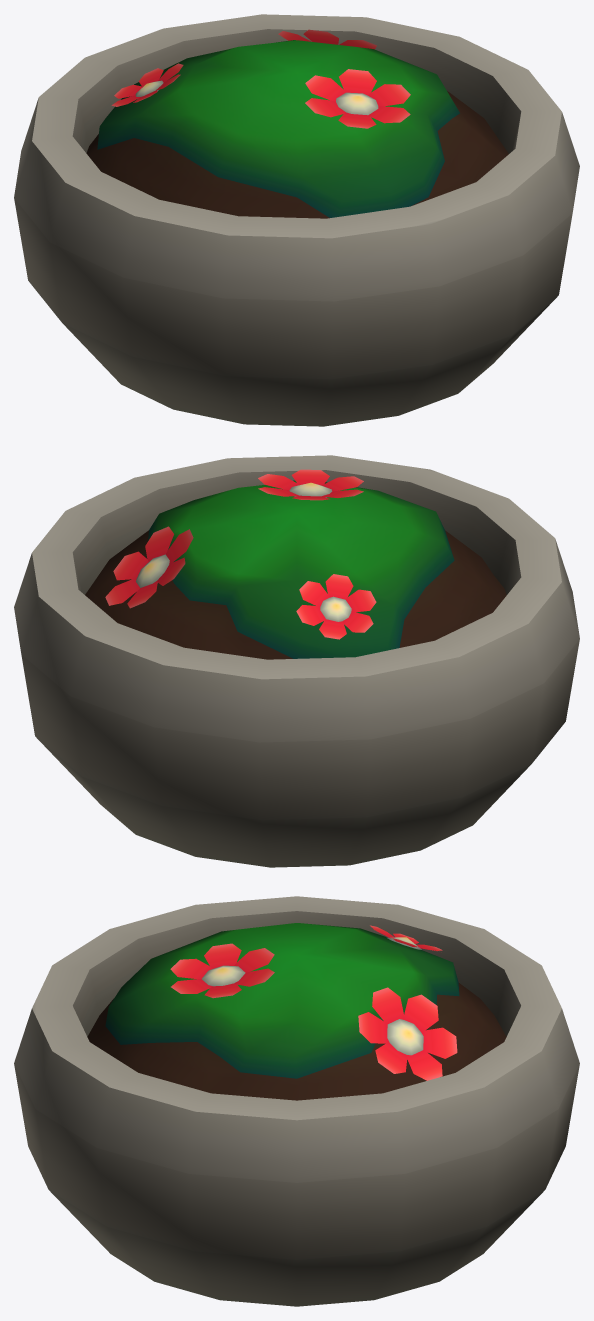
Rendered from Plant_Pot_2B.fbx.
3 views of the same model, one above another, from view 1: azimuth 30°, elevation 25°; view 2: azimuth 150°, elevation 25°; view 3: azimuth 270°, elevation 25° (orthographic).
Parts seen in each view (by area): view 1: Plant_Pot_2B; view 2: Plant_Pot_2B; view 3: Plant_Pot_2B.
Part boxes in pixels (x1,y1,x2,y2): Plant_Pot_2B: (14, 14, 579, 426); Plant_Pot_2B: (14, 455, 579, 867); Plant_Pot_2B: (14, 896, 579, 1306).
Size of the model in its own units: 201 by 106 by 201.
